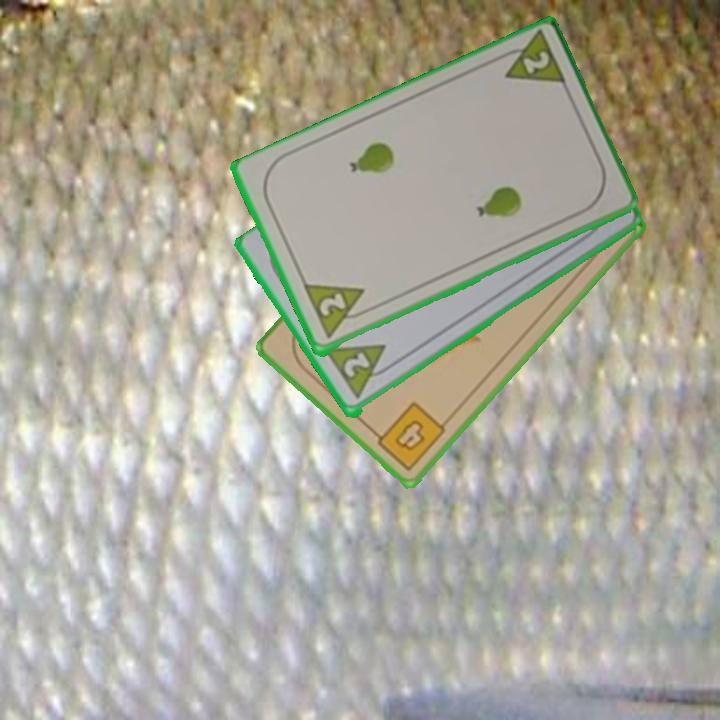2p: (491, 29, 570, 91), (300, 281, 375, 342), (339, 349, 373, 382)
4b: (367, 398, 449, 474)
